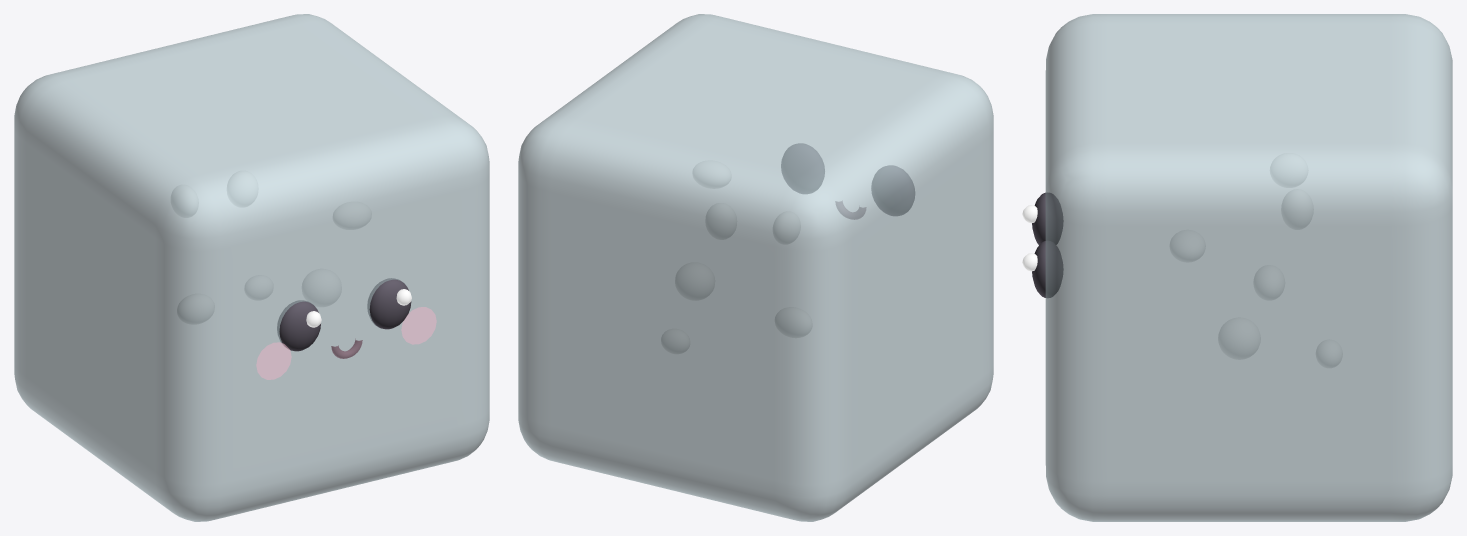
File: squishy_icecube.glb
3 views of the same model, side by side, from view 1: azimuth 30°, elevation 25°; view 2: azimuth 150°, elevation 25°; view 3: azimuth 270°, elevation 25° (orthographic). The views are drawn at different scales.
Parts seen in each view (by area): view 1: Body, Part_9, Part_6, Part_2, Part_11, Part_8, Part_1, Part_0, Part_4, Part_3, Part_5; view 2: Body, Part_9, Part_6, Part_2, Part_1, Part_0, Part_4, Part_3, Part_5; view 3: Body, Part_9, Part_2, Part_6, Part_3, Part_1, Part_4, Part_0, Part_5.
Part boxes in pixels (x1,y1,x2,y2): Body: [14, 14, 489, 521]; Part_9: [367, 278, 411, 329]; Part_6: [277, 300, 320, 351]; Part_2: [302, 269, 341, 306]; Part_11: [401, 307, 436, 344]; Part_8: [256, 342, 291, 379]; Part_1: [227, 171, 257, 206]; Part_0: [177, 294, 214, 323]; Part_4: [333, 202, 371, 229]; Part_3: [171, 185, 198, 217]; Part_5: [245, 275, 272, 299]; Body: [518, 14, 993, 521]; Part_9: [781, 143, 824, 193]; Part_6: [871, 165, 914, 215]; Part_2: [675, 263, 714, 299]; Part_1: [706, 203, 736, 239]; Part_0: [775, 307, 811, 337]; Part_4: [693, 161, 730, 188]; Part_3: [773, 212, 800, 243]; Part_5: [661, 329, 689, 353]; Body: [1045, 14, 1452, 521]; Part_9: [1032, 241, 1063, 297]; Part_2: [1218, 318, 1260, 359]; Part_6: [1032, 192, 1063, 244]; Part_3: [1270, 153, 1307, 187]; Part_1: [1281, 189, 1313, 229]; Part_4: [1170, 230, 1205, 261]; Part_0: [1254, 265, 1284, 299]; Part_5: [1316, 340, 1342, 367].
Size of the model in its own units: 1.9 by 1.9 by 2.01.
